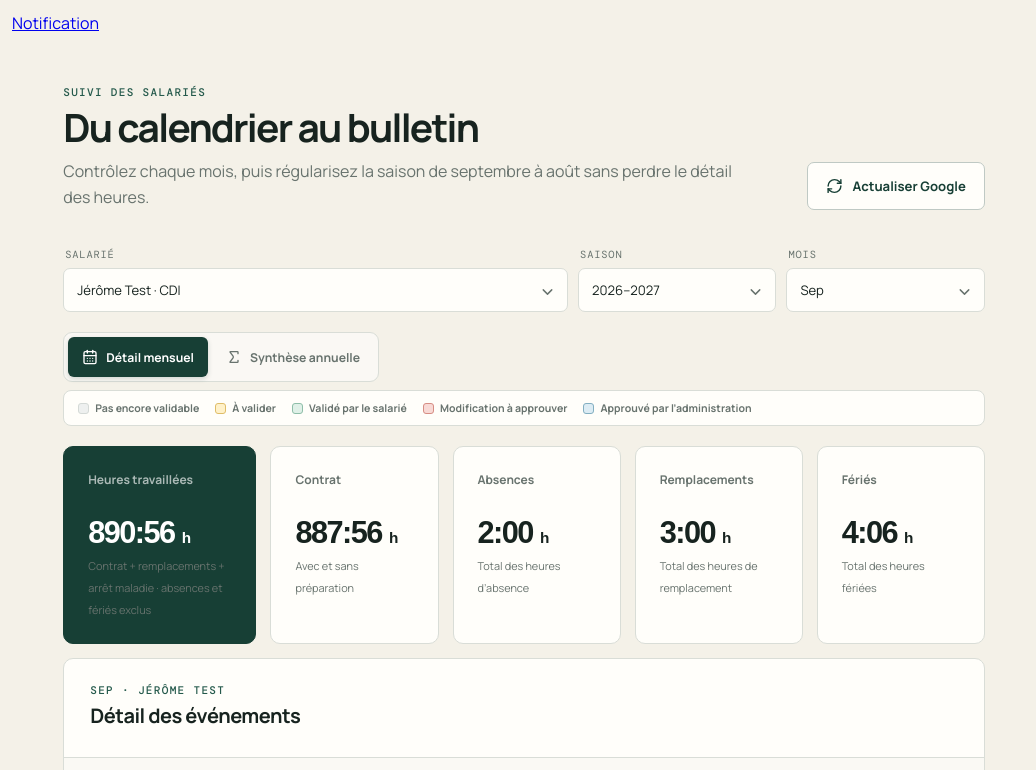
TimeTrackingPage › consumes new query parameters on same-route router navigation
The image size is (1036, 770).
Click the tab "Synthèse annuelle" at (293, 357), box [212,337,374,377]
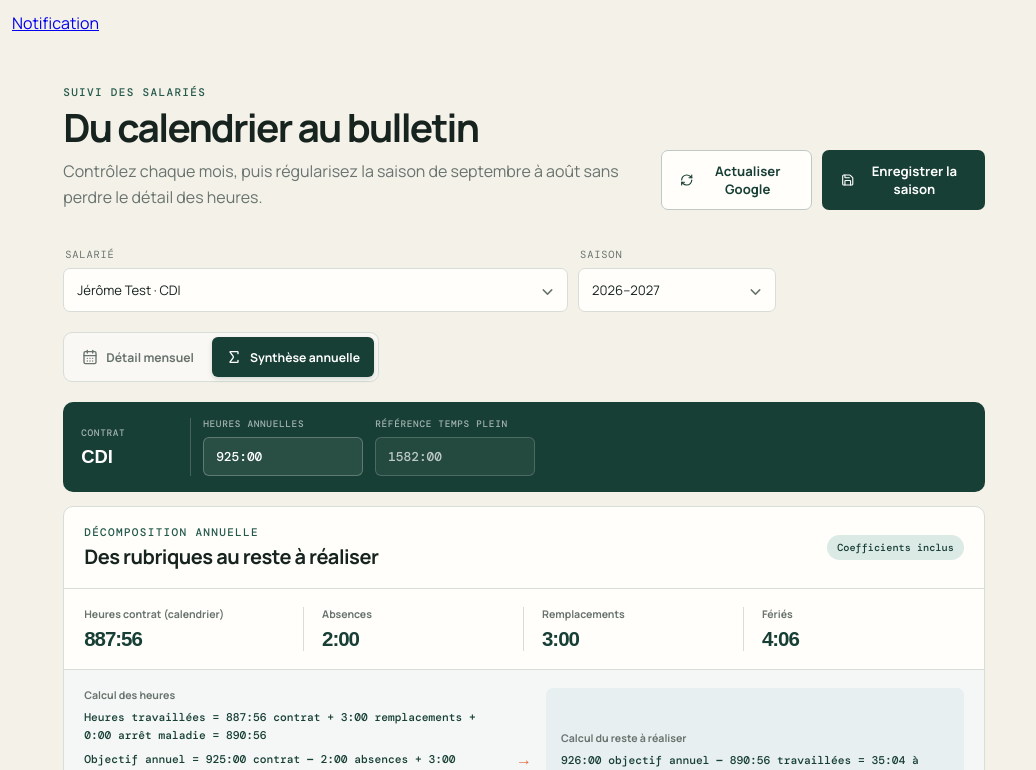
Click the link "Notification" at (56, 23), box [12,12,99,34]
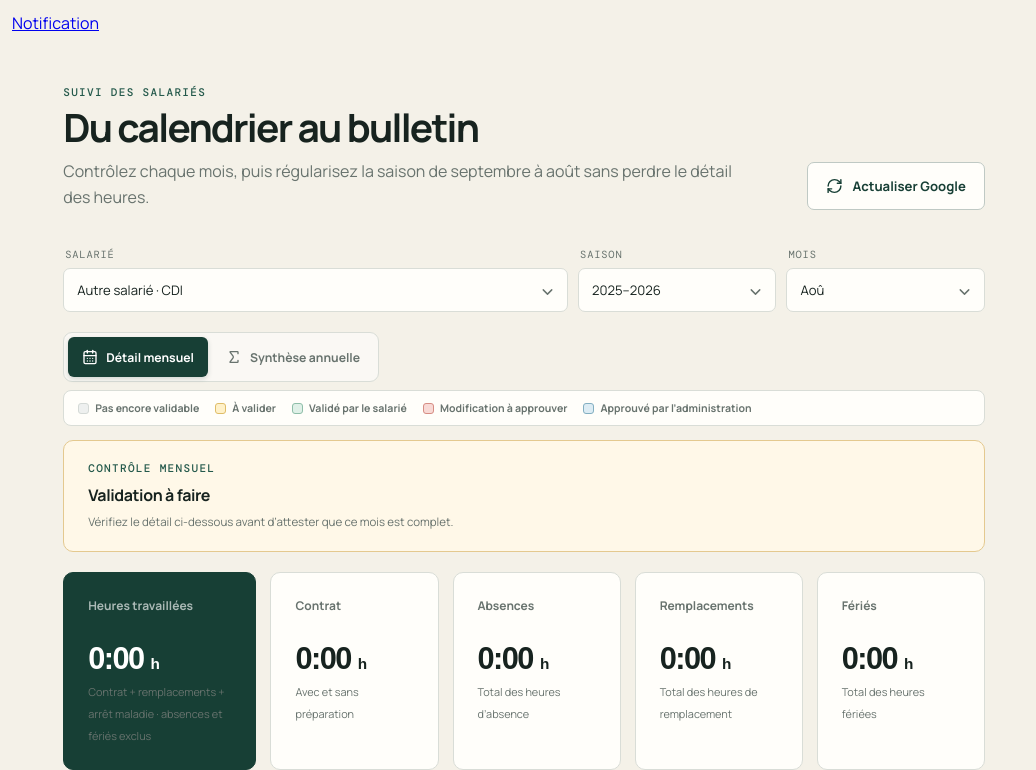
Expected: the dropdown labelled "Salarié" shows "Autre salarié · CDI", [63,268,568,312]
Expected: the dropdown labelled "Saison" shows "2025–2026", [578,268,776,312]
Expected: the dropdown labelled "Mois" shows "Aoû", [786,268,985,312]
